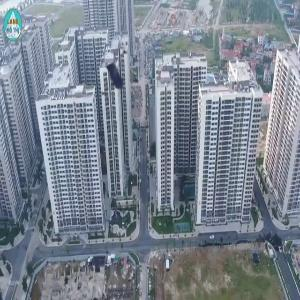drone: (86, 39, 161, 114)
